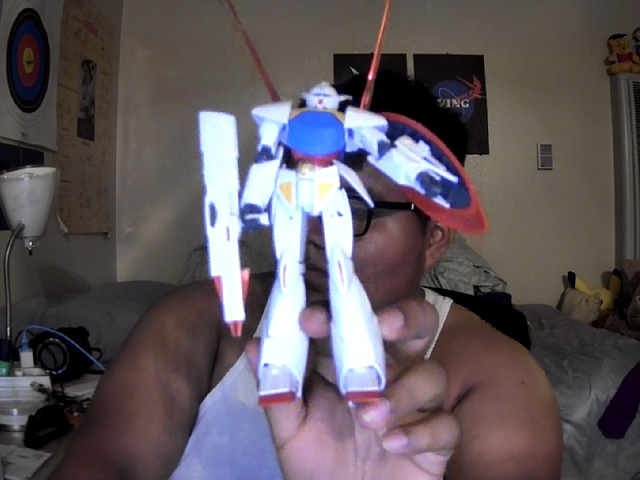Turn-A: (198, 82, 490, 410)
